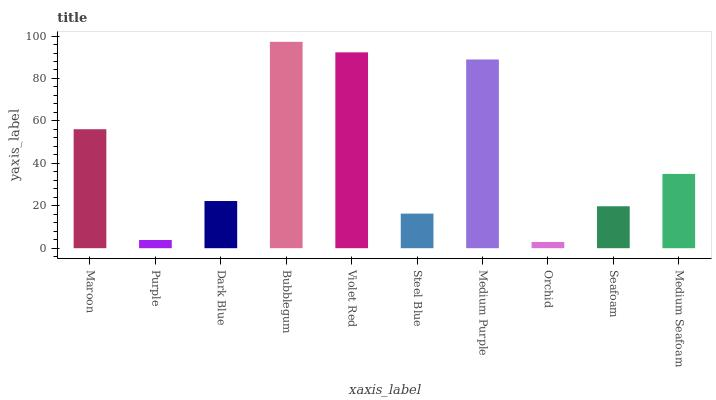axis: (49, 29, 64, 256)
label: (668, 268, 691, 372), (473, 268, 493, 358), (340, 266, 364, 335), (601, 267, 626, 323), (407, 267, 428, 332), (277, 266, 295, 336), (211, 266, 230, 328), (81, 266, 102, 317), (536, 268, 560, 312), (144, 268, 166, 313)
rectangle: (270, 42, 303, 249), (336, 52, 369, 247), (467, 59, 499, 248), (74, 128, 106, 248), (663, 174, 695, 248), (205, 200, 238, 248), (598, 206, 630, 248), (401, 214, 434, 248), (138, 240, 173, 248), (532, 242, 565, 249)
title: (52, 5, 95, 28)
